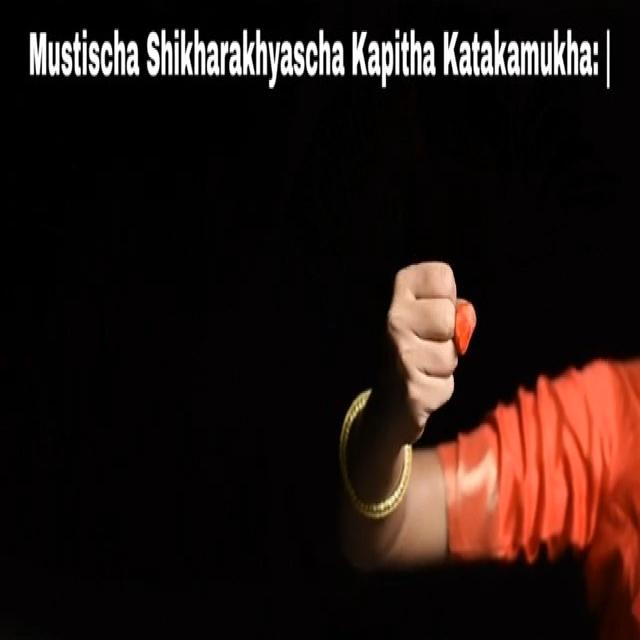Mushti: (358, 230, 483, 452)
bangle: (330, 425, 410, 534)
text: (16, 20, 618, 100)
